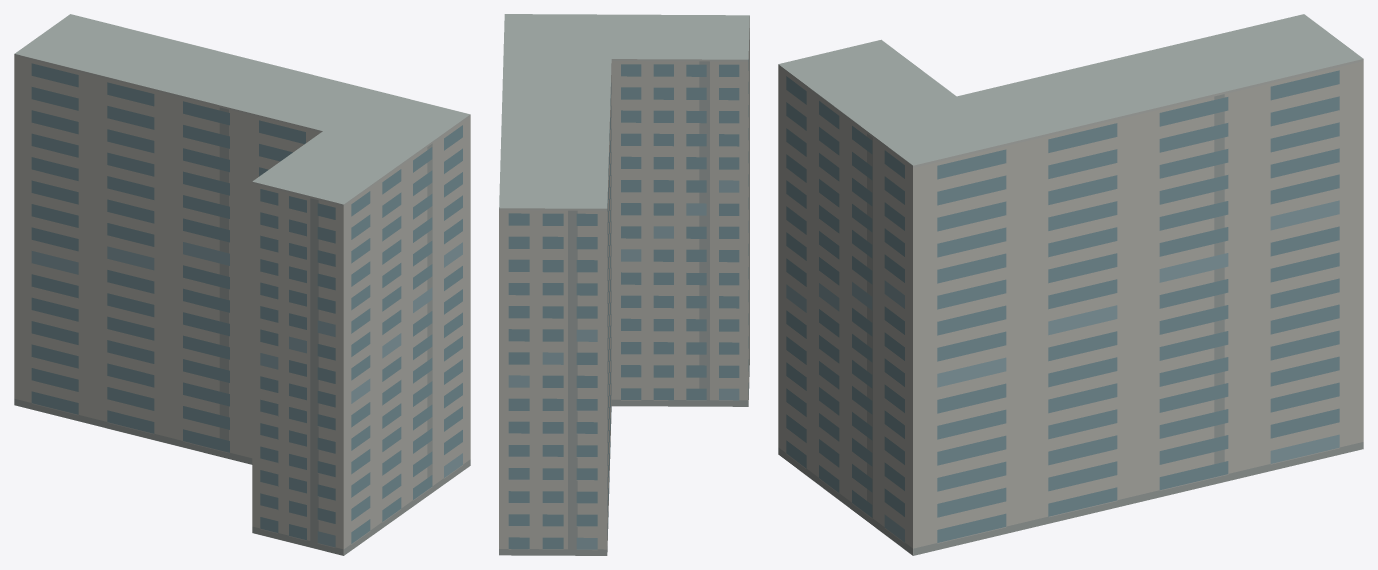
The model's file is residential-131c9fe9-8456-4a3f-a489-b3280b18b02d.glb.
3 views of the same model, side by side, from view 1: azimuth 30°, elevation 25°; view 2: azimuth 150°, elevation 25°; view 3: azimuth 270°, elevation 25° (orthographic). The views are drawn at different scales.
Parts seen in each view (by area): view 1: residential-131c9fe9-8456-4a3f-a489-b3280b18b02d.tmp; view 2: residential-131c9fe9-8456-4a3f-a489-b3280b18b02d.tmp; view 3: residential-131c9fe9-8456-4a3f-a489-b3280b18b02d.tmp.
Part boxes in pixels (x1,y1,x2,y2): residential-131c9fe9-8456-4a3f-a489-b3280b18b02d.tmp: (14, 14, 470, 555); residential-131c9fe9-8456-4a3f-a489-b3280b18b02d.tmp: (499, 14, 749, 555); residential-131c9fe9-8456-4a3f-a489-b3280b18b02d.tmp: (778, 14, 1363, 555).
Size of the model in its own units: 35.86 by 43 by 58.48.
